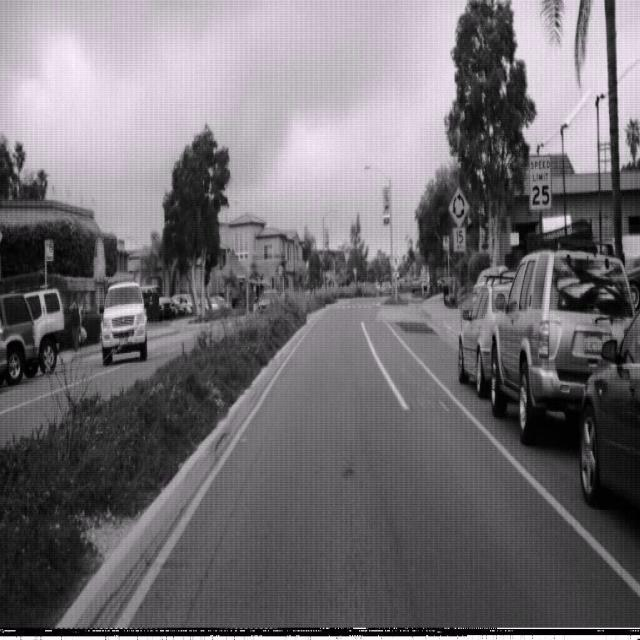speedLimit25: (528, 152, 552, 211)
